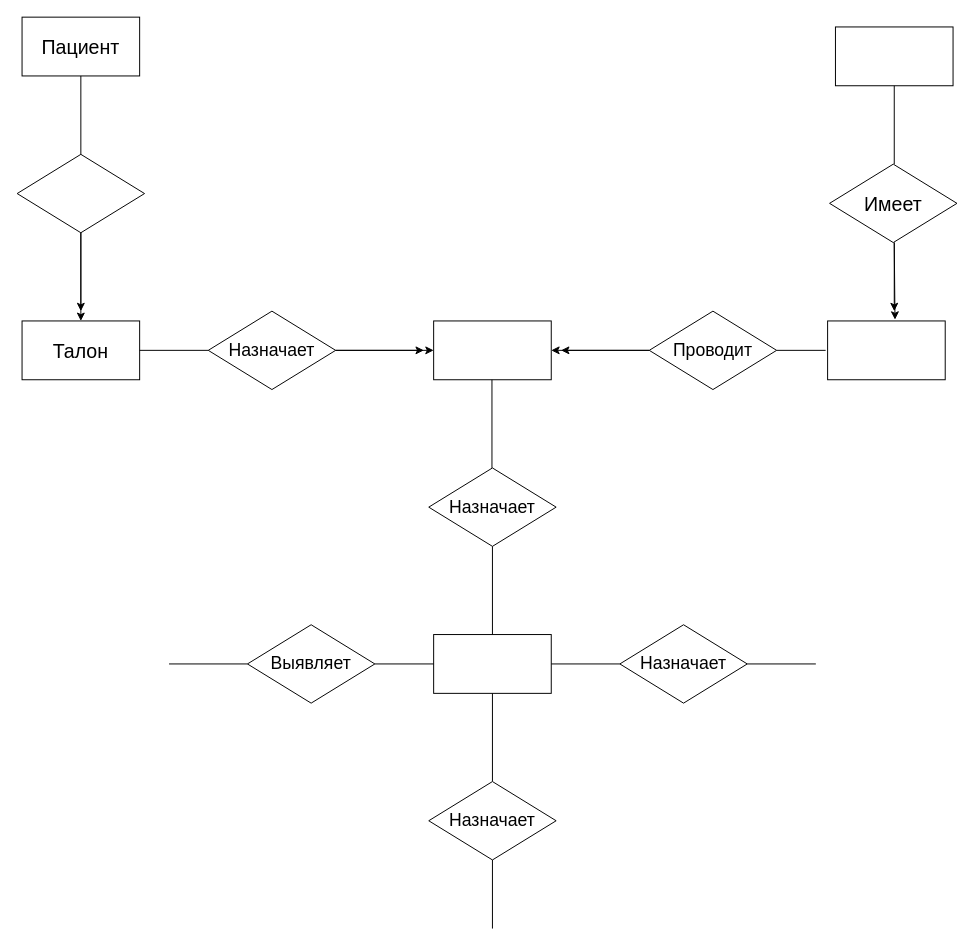
This 974x947 diagram has some shape labels left out. The centre of each missing label's shape, as x and y in pixels:
"Берёт" goes at [80,193].
"Врач" goes at [886,350].
"Отделение" goes at [893,56].
"Отчёт" goes at [492,663].
"Приём" goes at [492,350].
